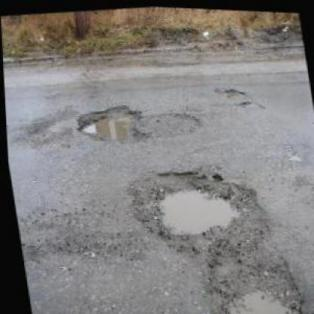Hueco: (121, 153, 276, 266), (194, 248, 305, 314), (70, 97, 146, 149), (212, 81, 246, 98), (233, 94, 262, 110)
